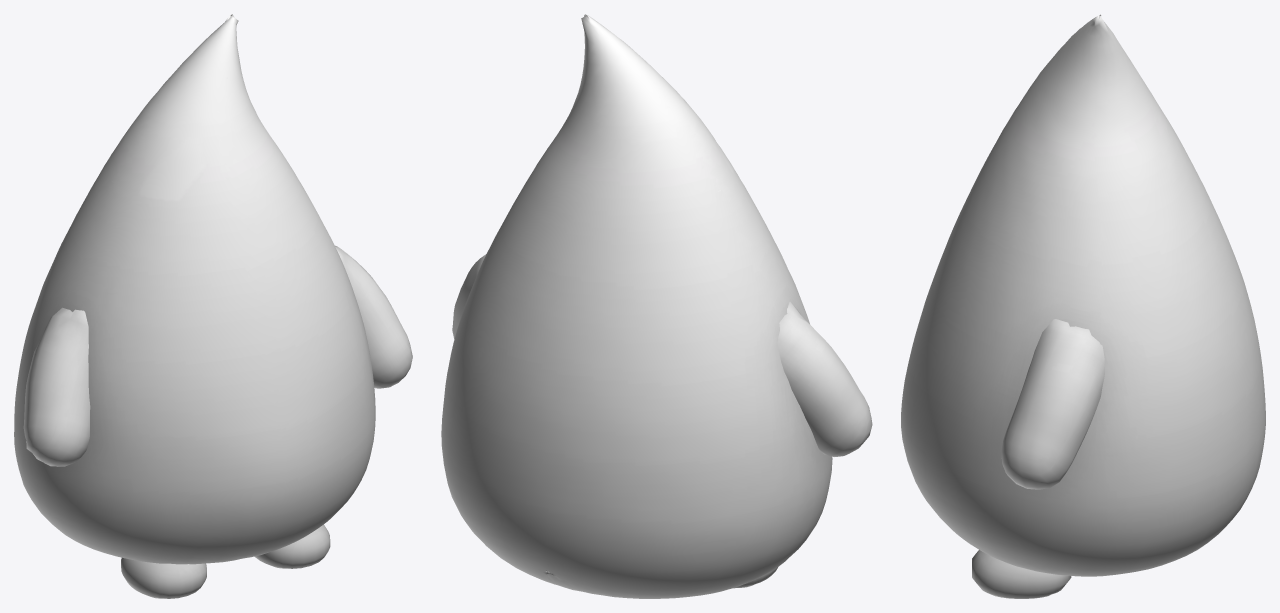
Rendered from plomeria.glb.
3 renders of one model, left to right at view 1: azimuth 30°, elevation 25°; view 2: azimuth 150°, elevation 25°; view 3: azimuth 270°, elevation 25°, orthographic. The views are drawn at different scales.
Visible parts, largest first — view 1: cuerpo, brazoI, brazoD; view 2: cuerpo, brazoI, brazoD; view 3: cuerpo, brazoD.
Part boxes in pixels (<box>): cuerpo: <box>14,14,375,598</box>; brazoI: <box>23,307,90,466</box>; brazoD: <box>335,245,412,388</box>; cuerpo: <box>441,14,832,598</box>; brazoI: <box>777,302,872,456</box>; brazoD: <box>452,254,486,338</box>; cuerpo: <box>901,14,1265,598</box>; brazoD: <box>1001,319,1104,489</box>.
Bounding box in the file's own units: 1.85 × 2.42 × 1.42.
Materials: 1 (1 with a texture image).
